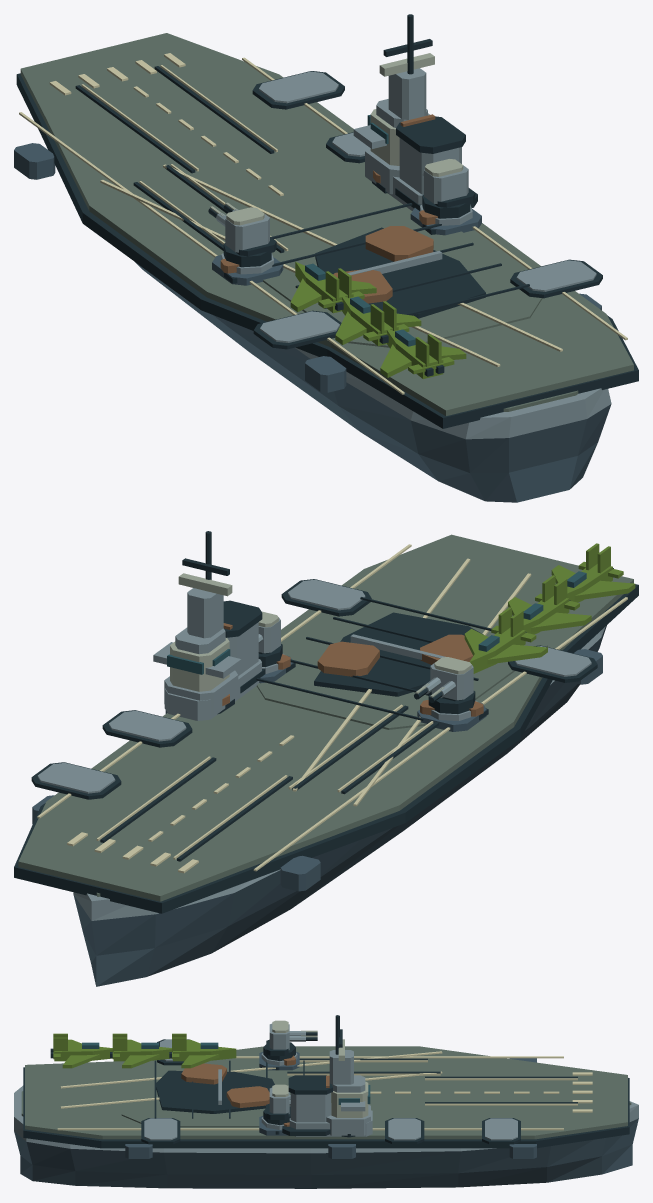
File: historic-kitty-hawk.glb
3 views of the same model, one above another, from view 1: azimuth 30°, elevation 25°; view 2: azimuth 150°, elevation 25°; view 3: azimuth 270°, elevation 25° (orthographic). The views are drawn at different scales.
Parts seen in each view (by area): view 1: historic-kitty-hawk-historic-kitty-hawk-geometry, historic-kitty-hawk-part_flight-deck.019-geometry, historic-kitty-hawk-ruin_flight-deck.018-geometry, historic-kitty-hawk-part_bridge.077-geometry, historic-kitty-hawk-historic_funnel_0.080-geometry, historic-kitty-hawk-turret_aa_aa-port.081-geometry, historic-kitty-hawk-parked_aircraft_0.019-geometry, historic-kitty-hawk-turret_aa_aa-starboard.077-geometry, historic-kitty-hawk-parked_aircraft_2.019-geometry, historic-kitty-hawk-parked_aircraft_1.019-geometry, historic-kitty-hawk-aircraft_lift_0.019-geometry, historic-kitty-hawk-aircraft_lift_2.014-geometry (+4 smaller); view 2: historic-kitty-hawk-historic-kitty-hawk-geometry, historic-kitty-hawk-part_flight-deck.019-geometry, historic-kitty-hawk-ruin_flight-deck.018-geometry, historic-kitty-hawk-part_bridge.077-geometry, historic-kitty-hawk-historic_funnel_0.080-geometry, historic-kitty-hawk-parked_aircraft_2.019-geometry, historic-kitty-hawk-parked_aircraft_1.019-geometry, historic-kitty-hawk-parked_aircraft_0.019-geometry, historic-kitty-hawk-turret_aa_aa-port.081-geometry, historic-kitty-hawk-aircraft_lift_0.019-geometry, historic-kitty-hawk-aircraft_lift_1.019-geometry, historic-kitty-hawk-aircraft_lift_2.014-geometry (+3 smaller); view 3: historic-kitty-hawk-historic-kitty-hawk-geometry, historic-kitty-hawk-part_flight-deck.019-geometry, historic-kitty-hawk-ruin_flight-deck.018-geometry, historic-kitty-hawk-part_bridge.077-geometry, historic-kitty-hawk-historic_funnel_0.080-geometry, historic-kitty-hawk-parked_aircraft_2.019-geometry, historic-kitty-hawk-parked_aircraft_0.019-geometry, historic-kitty-hawk-parked_aircraft_1.019-geometry, historic-kitty-hawk-turret_aa_aa-port.081-geometry, historic-kitty-hawk-aircraft_lift_1.019-geometry, historic-kitty-hawk-aircraft_lift_2.014-geometry, historic-kitty-hawk-aircraft_lift_0.019-geometry (+3 smaller).
Boxes of the visible parts, x1,y1,x2,y2 form: historic-kitty-hawk-historic-kitty-hawk-geometry: (14, 33, 638, 502); historic-kitty-hawk-part_flight-deck.019-geometry: (263, 203, 542, 347); historic-kitty-hawk-ruin_flight-deck.018-geometry: (315, 226, 485, 318); historic-kitty-hawk-part_bridge.077-geometry: (353, 14, 434, 194); historic-kitty-hawk-historic_funnel_0.080-geometry: (365, 114, 477, 210); historic-kitty-hawk-turret_aa_aa-port.081-geometry: (208, 202, 276, 267); historic-kitty-hawk-parked_aircraft_0.019-geometry: (380, 329, 466, 378); historic-kitty-hawk-turret_aa_aa-starboard.077-geometry: (422, 159, 475, 218); historic-kitty-hawk-parked_aircraft_2.019-geometry: (290, 261, 376, 313); historic-kitty-hawk-parked_aircraft_1.019-geometry: (335, 295, 421, 346); historic-kitty-hawk-aircraft_lift_0.019-geometry: (252, 71, 344, 109); historic-kitty-hawk-aircraft_lift_2.014-geometry: (510, 259, 602, 298); historic-kitty-hawk-historic-kitty-hawk-geometry: (14, 534, 638, 986); historic-kitty-hawk-part_flight-deck.019-geometry: (256, 592, 547, 729); historic-kitty-hawk-ruin_flight-deck.018-geometry: (314, 612, 483, 696); historic-kitty-hawk-part_bridge.077-geometry: (153, 531, 241, 716); historic-kitty-hawk-historic_funnel_0.080-geometry: (164, 600, 265, 720); historic-kitty-hawk-parked_aircraft_2.019-geometry: (464, 607, 547, 673); historic-kitty-hawk-parked_aircraft_1.019-geometry: (508, 575, 591, 634); historic-kitty-hawk-parked_aircraft_0.019-geometry: (551, 543, 635, 602); historic-kitty-hawk-turret_aa_aa-port.081-geometry: (414, 657, 475, 714); historic-kitty-hawk-aircraft_lift_0.019-geometry: (31, 762, 121, 799); historic-kitty-hawk-aircraft_lift_1.019-geometry: (102, 710, 192, 747); historic-kitty-hawk-aircraft_lift_2.014-geometry: (281, 579, 371, 616); historic-kitty-hawk-historic-kitty-hawk-geometry: (14, 1046, 638, 1188); historic-kitty-hawk-part_flight-deck.019-geometry: (121, 1060, 313, 1127); historic-kitty-hawk-ruin_flight-deck.018-geometry: (156, 1063, 274, 1113); historic-kitty-hawk-part_bridge.077-geometry: (326, 1015, 370, 1135); historic-kitty-hawk-historic_funnel_0.080-geometry: (282, 1075, 372, 1136); historic-kitty-hawk-parked_aircraft_2.019-geometry: (169, 1033, 236, 1068); historic-kitty-hawk-parked_aircraft_0.019-geometry: (50, 1033, 112, 1068); historic-kitty-hawk-parked_aircraft_1.019-geometry: (110, 1033, 171, 1068); historic-kitty-hawk-turret_aa_aa-port.081-geometry: (263, 1020, 317, 1061); historic-kitty-hawk-aircraft_lift_1.019-geometry: (385, 1118, 424, 1144); historic-kitty-hawk-aircraft_lift_2.014-geometry: (141, 1118, 180, 1144); historic-kitty-hawk-aircraft_lift_0.019-geometry: (482, 1118, 520, 1144).
Size of the model in its own units: 2.29 by 1.92 by 5.89.
